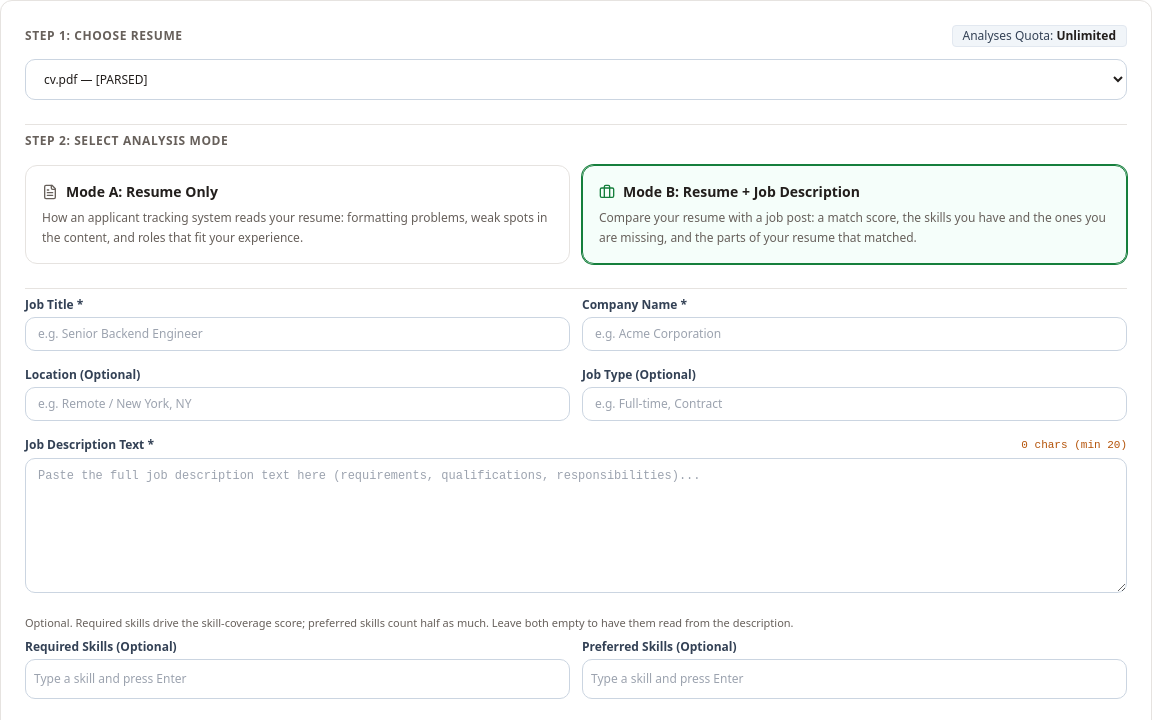
Scenario: AnalyzeSelector required/preferred skill chips › removes a chip
In the field labelled "Job Title *": {"x": 298, "y": 334} [25,317,570,351], type "Accountant"
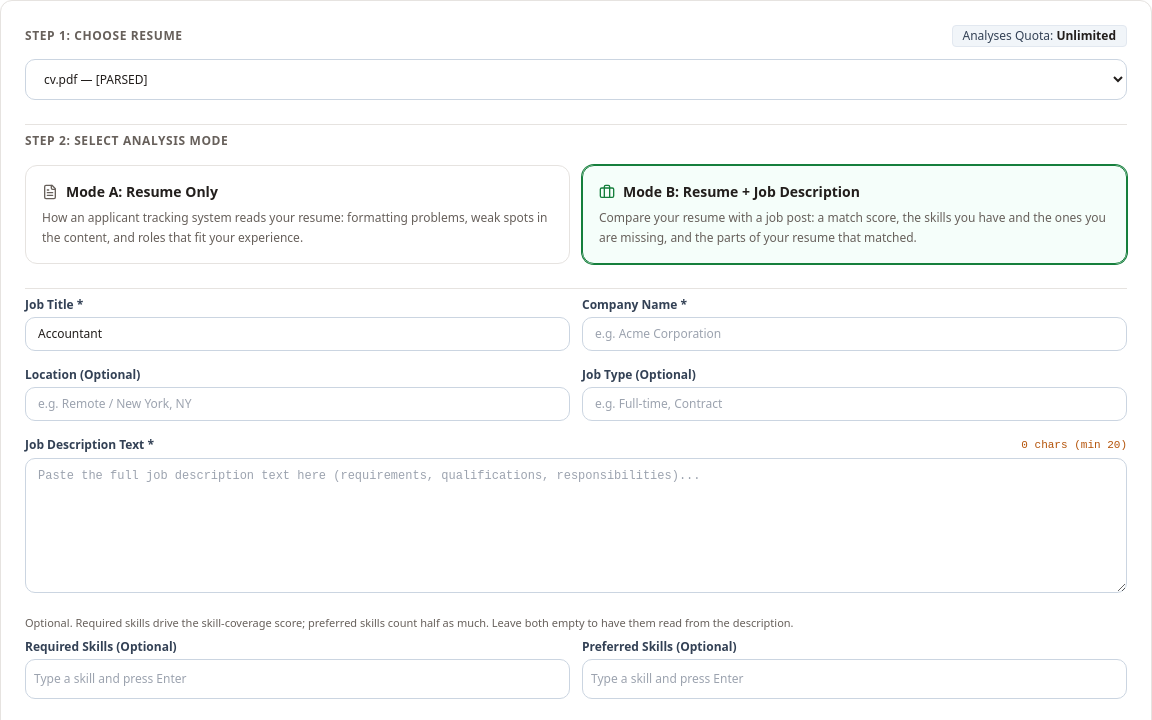
In the field labelled "Company Name *": {"x": 854, "y": 334} [582,317,1127,351], type "Acme"
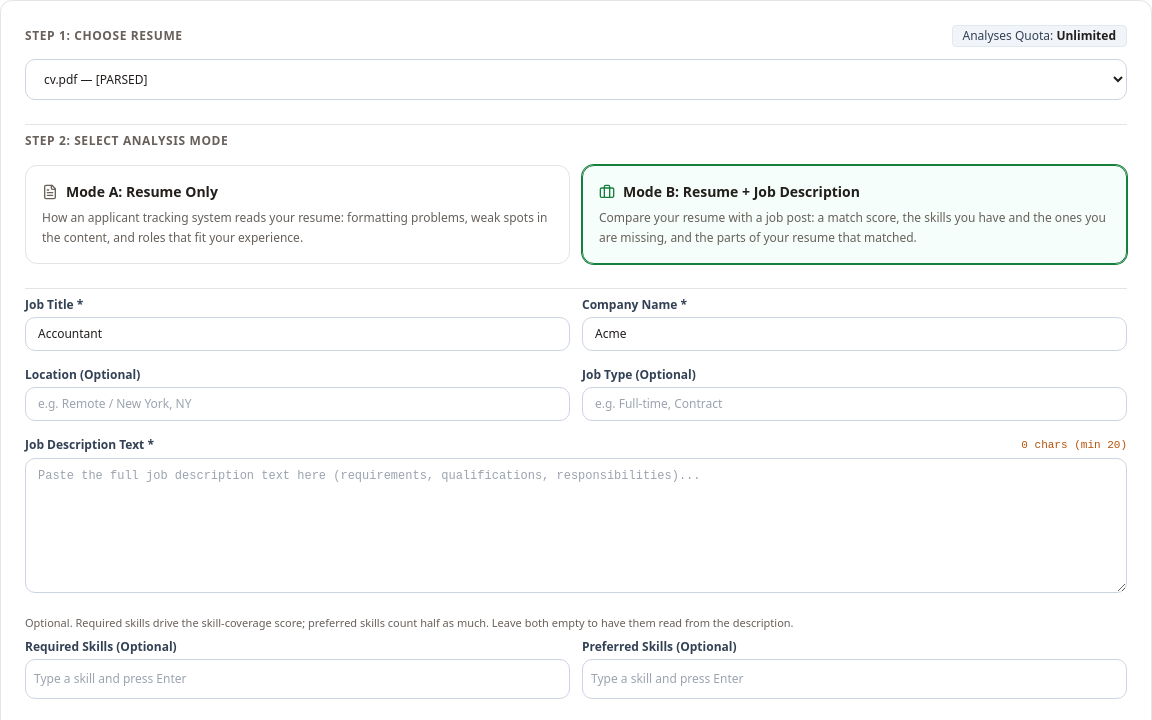
Replace the text in the text box labelled "Job Description Text *" with "Maintain the general ledger and support month-end close.": {"x": 576, "y": 525} [25,458,1127,592]
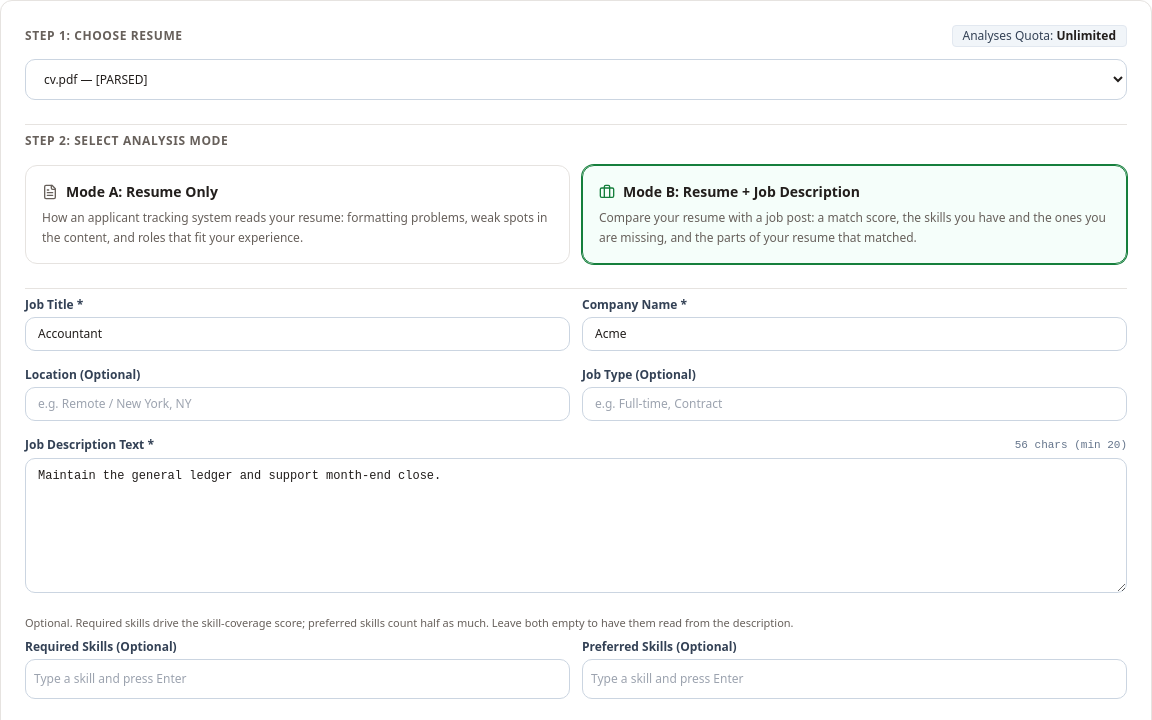
In the field labelled "Preferred Skills (Optional)": {"x": 854, "y": 679} [591,668,1118,690], type "Payroll"
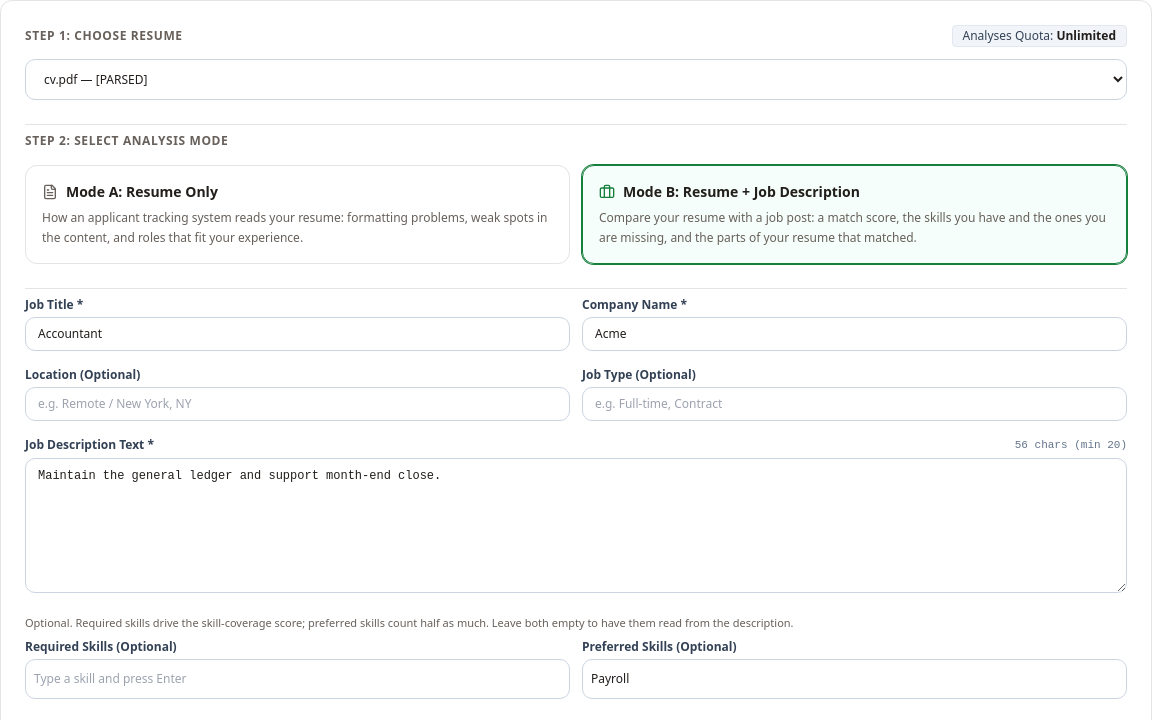
Press Enter in the field labelled "Preferred Skills (Optional)", box [591,668,1118,690]
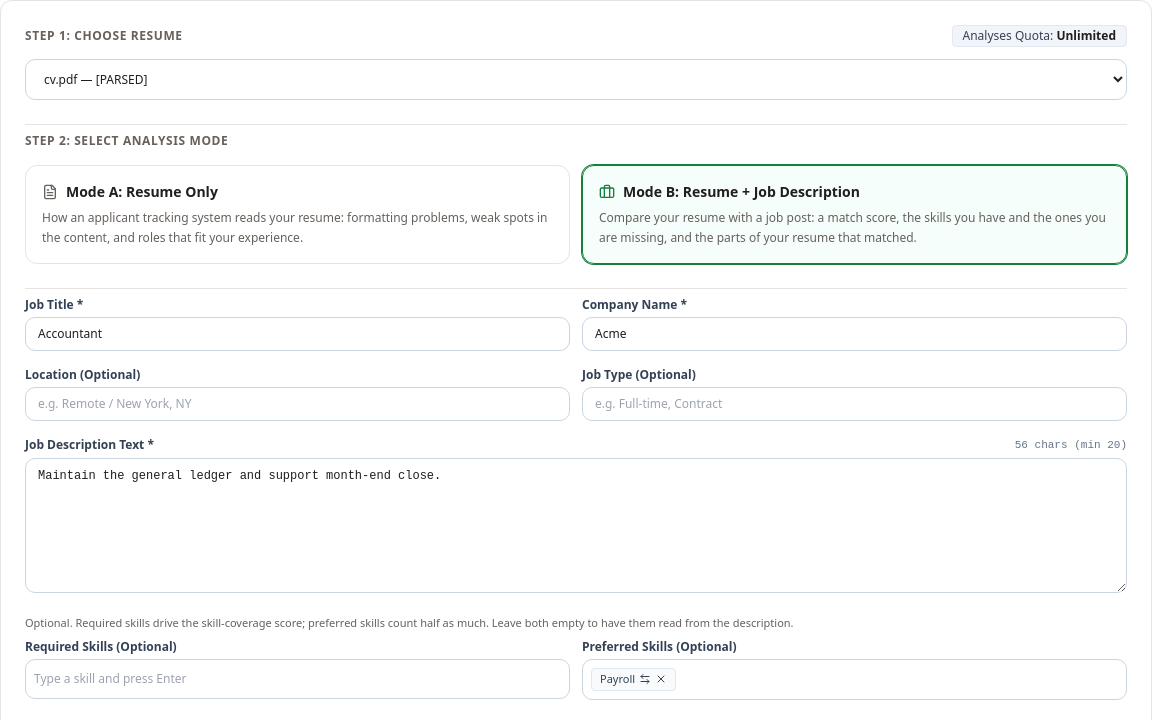
Click the button named "Remove Payroll": {"x": 661, "y": 679} [655,673,667,685]
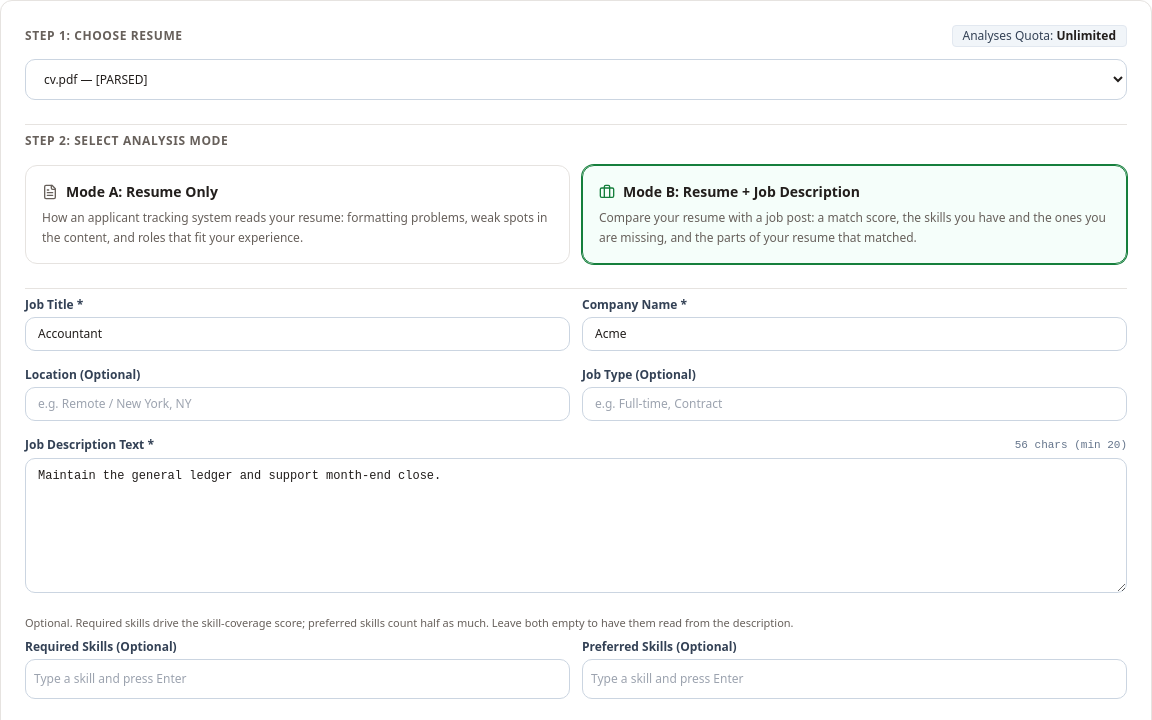
expect the text "Payroll" is gone: met
